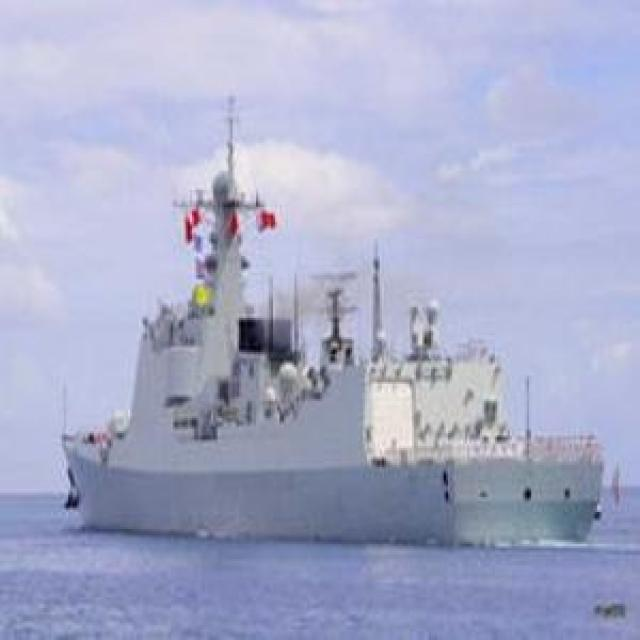navalvessels: (60, 101, 610, 552)
